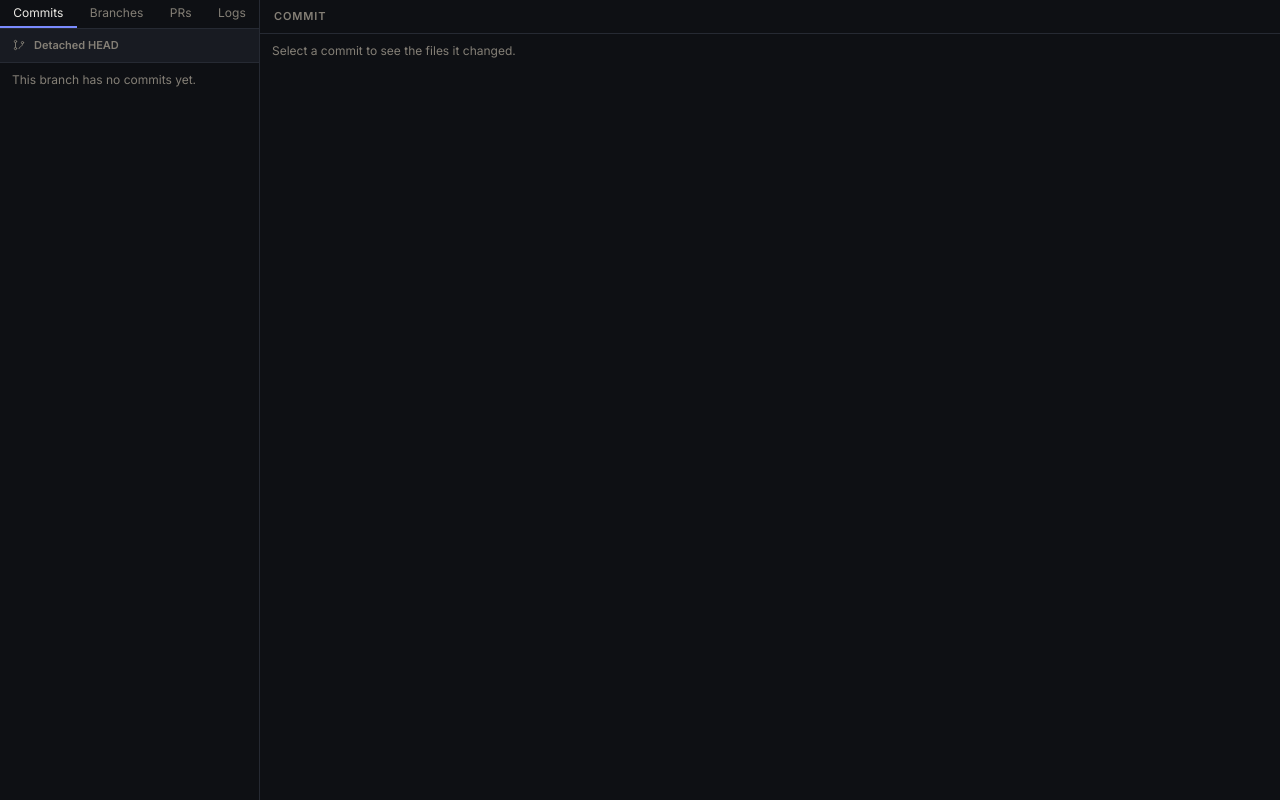
Test case: refusals read at the inspection (GIT-FR-GAMV) › GIT-FR-UDKY: a new attempt clears the earlier refusal of the row
This screenshot has width=1280, height=800.
Click the tab "Branches" at (117, 12), box 90,5 -> 143,20
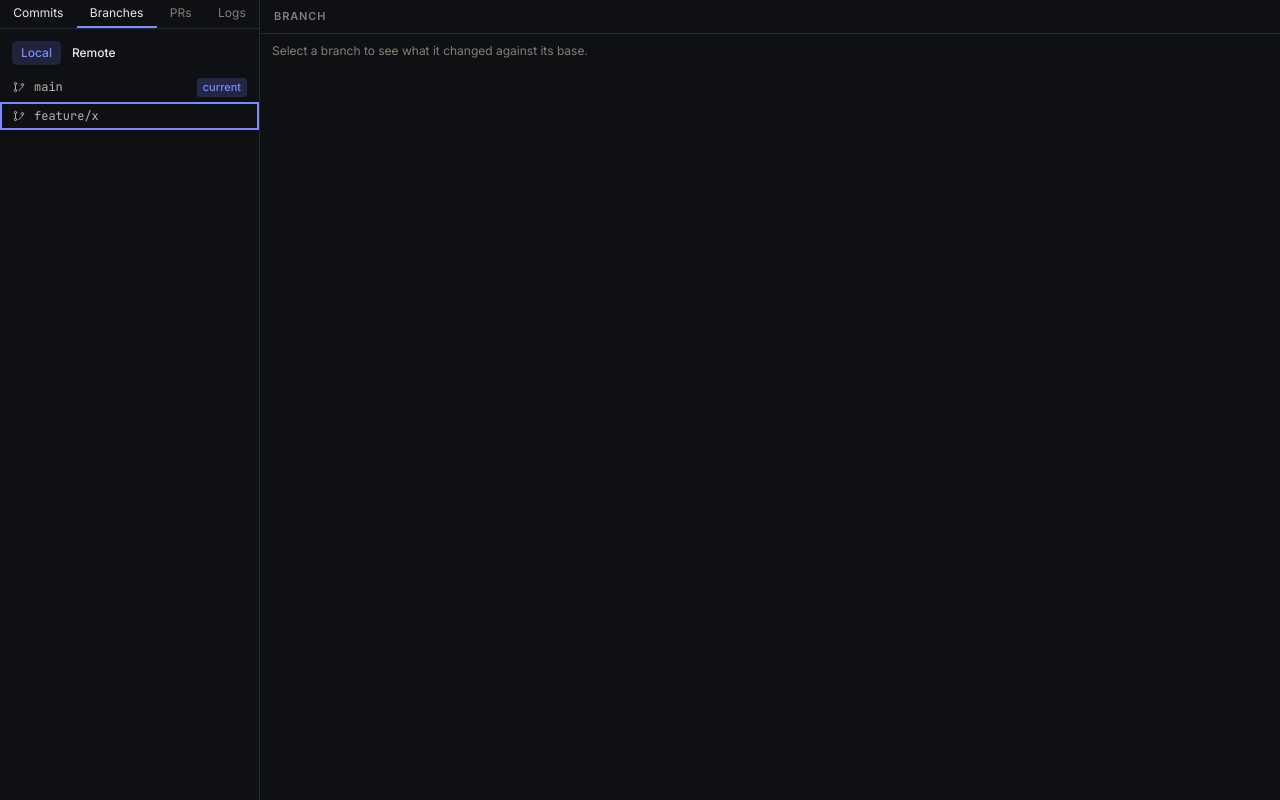
Check: the text "feature/x" is shown, box 34,108 -> 99,124
Press Contextmenu
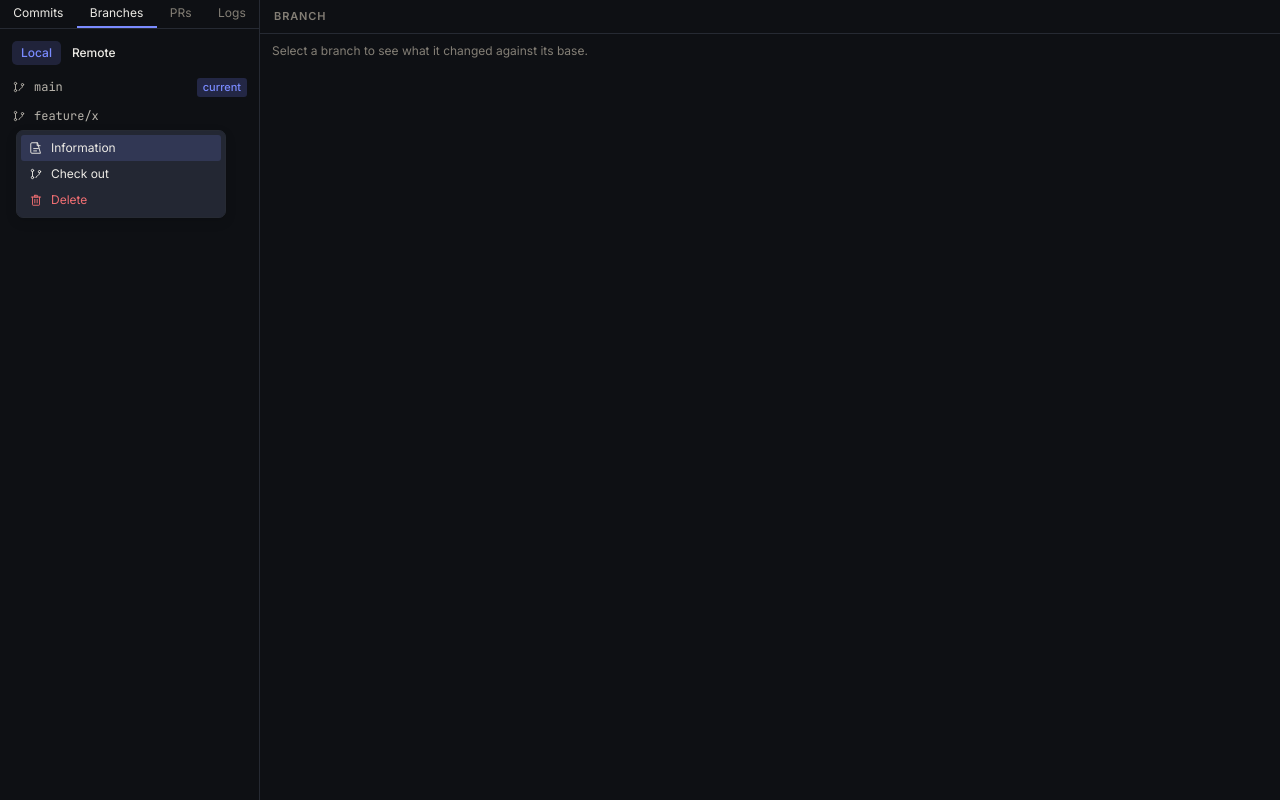
Click the menu item "Delete" at (121, 200), box 21,186 -> 221,212
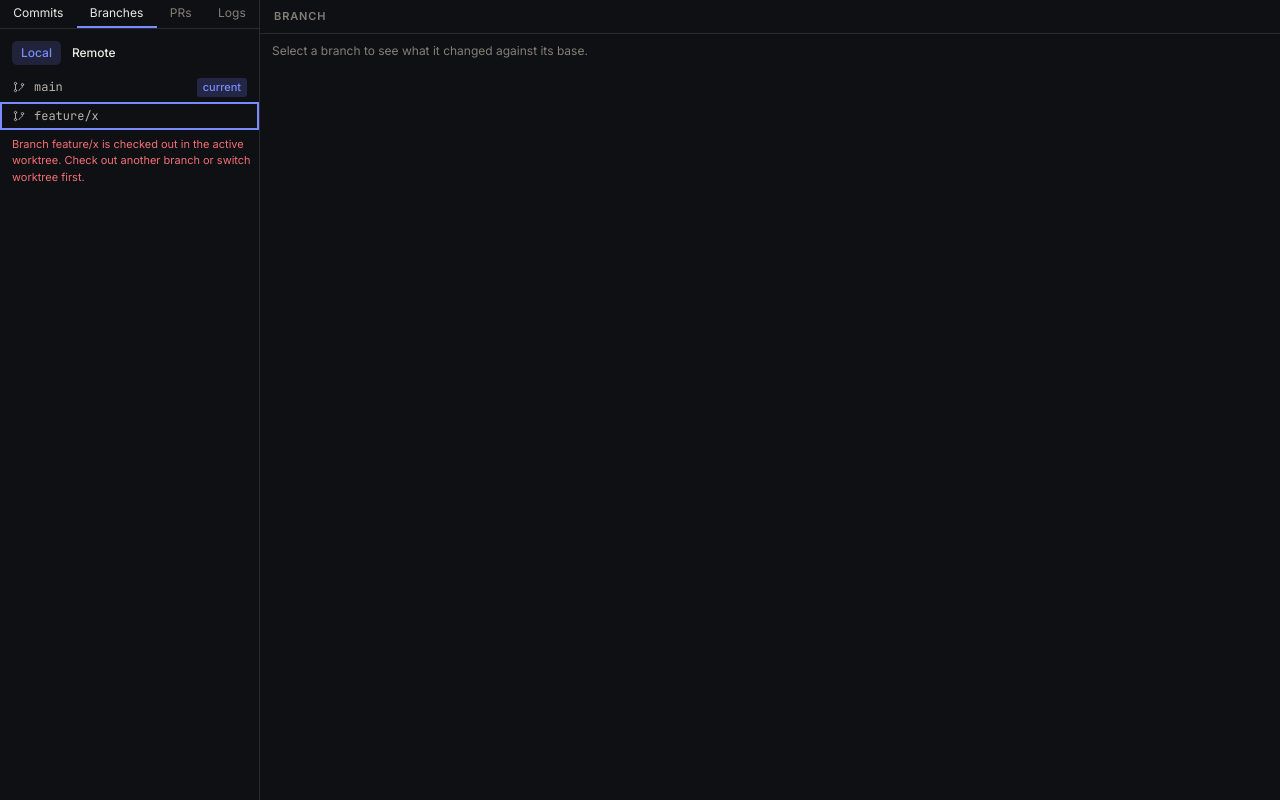
Check: the message with test id "git-branch-refusal" is shown, box 0,130 -> 259,191
Press Contextmenu
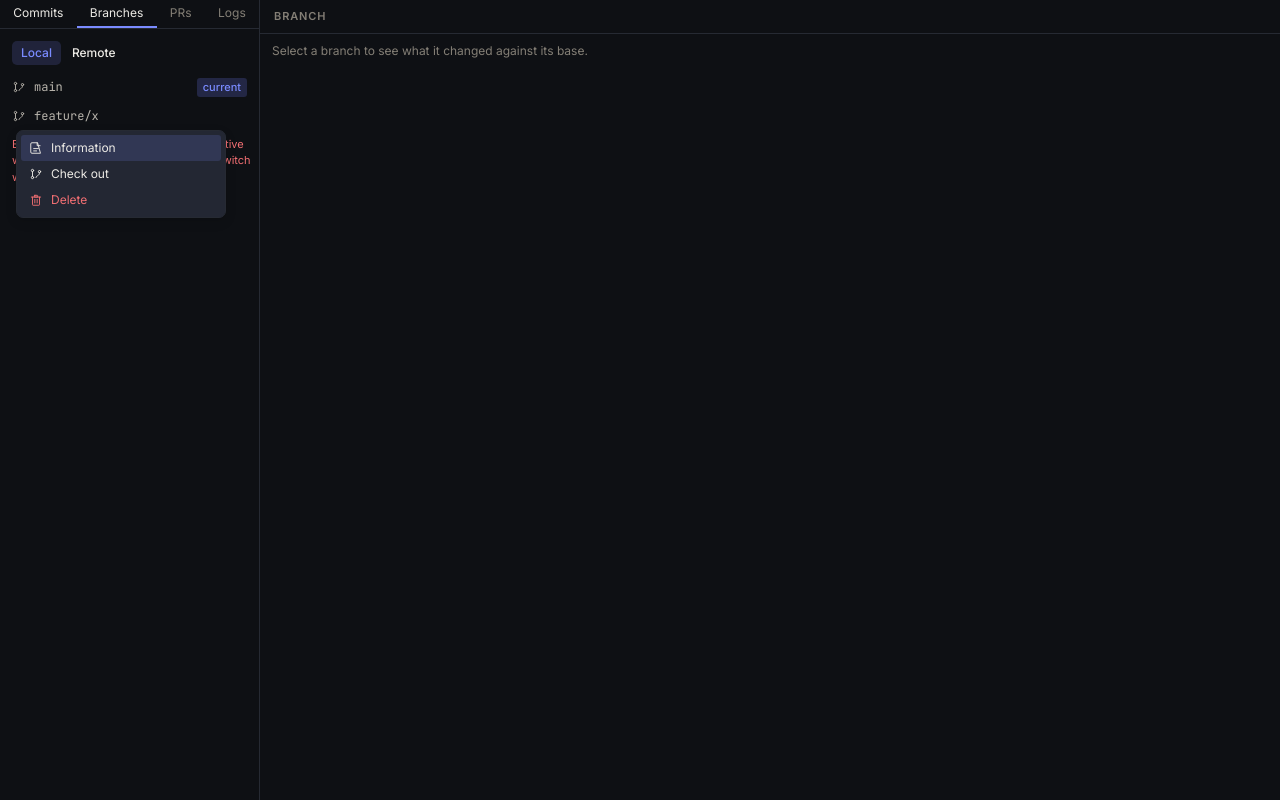
Click the menu item "Delete" at (121, 200), box 21,186 -> 221,212
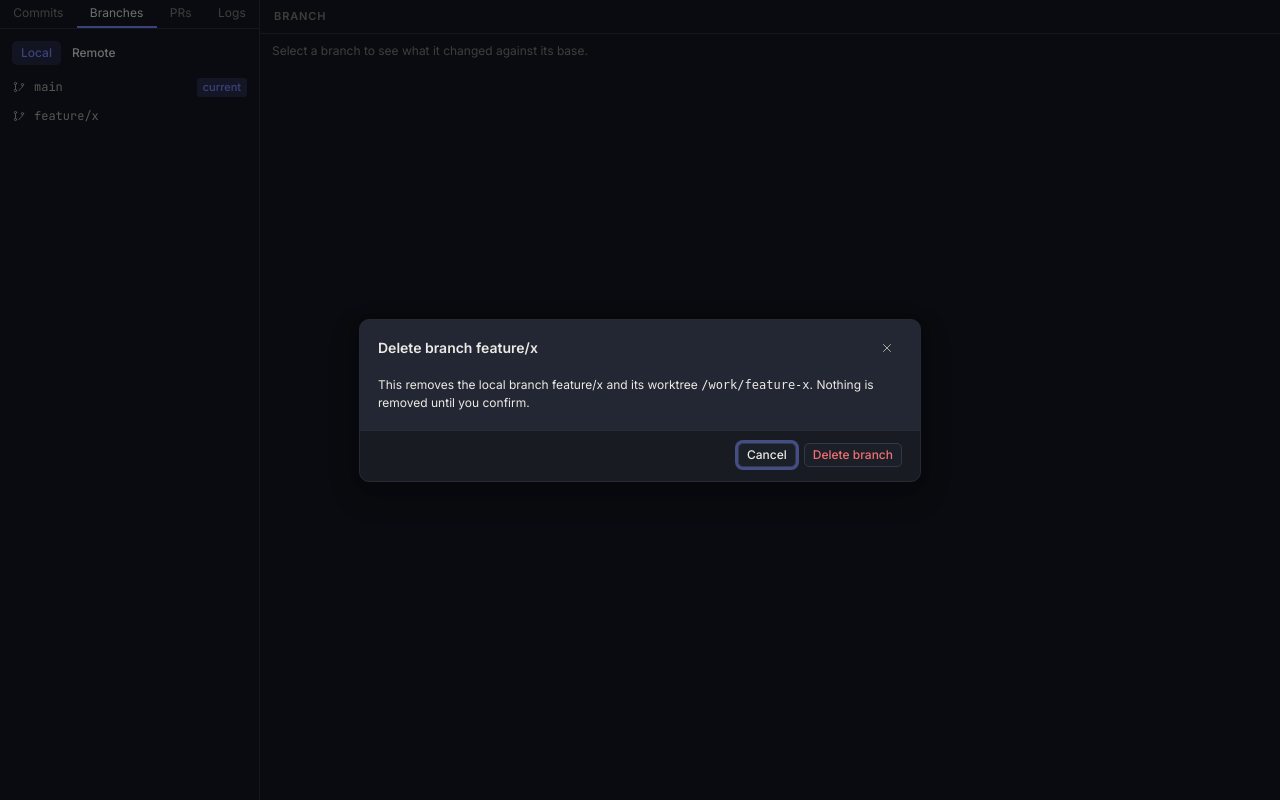
Check: the dialog with test id "git-branch-delete" is shown, box 359,318 -> 921,482
Check: the message with test id "git-branch-refusal" is gone
